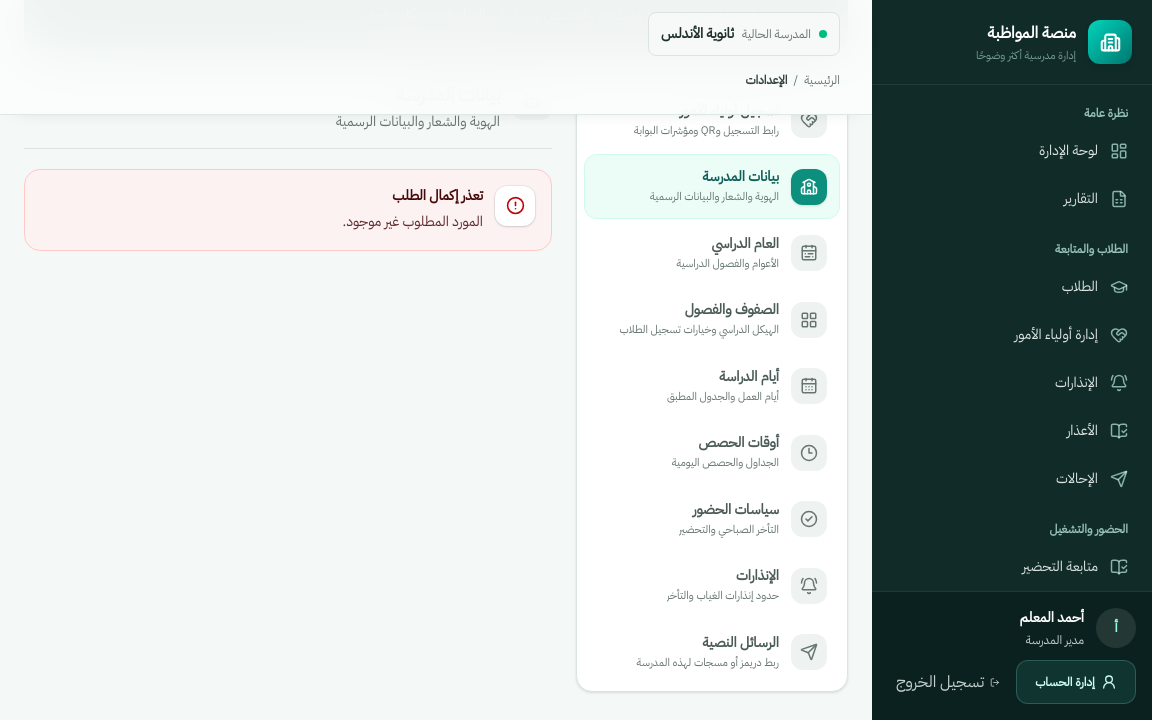
Test: warning rules settings (Phase 11) › renders absence and late thresholds for the manager
This screenshot has width=1152, height=720.
(page scrolled)
Click the tab "الإنذارات حدود إنذارات الغياب والتأخر".
click(712, 586)  # box top-left (585, 554), bottom-right (839, 617)
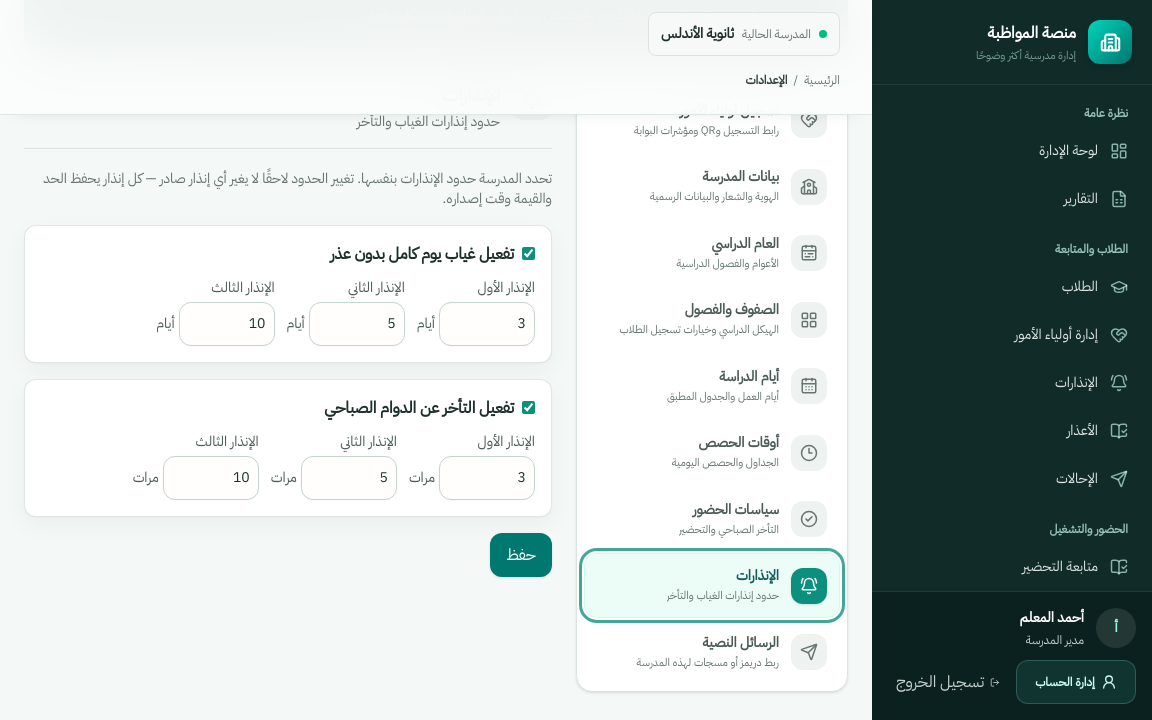
expect the number field with test id "threshold-UNEXCUSED_FULL_DAY_ABSENCE-LEVEL_1" holds "3": met, box top-left (439, 302), bottom-right (535, 346)
expect the number field with test id "threshold-UNEXCUSED_FULL_DAY_ABSENCE-LEVEL_3" holds "10": met, box top-left (178, 302), bottom-right (274, 346)
expect the element with test id "rule-UNEXCUSED_FULL_DAY_ABSENCE" shows "أيام": met, box top-left (417, 313), bottom-right (435, 334)
